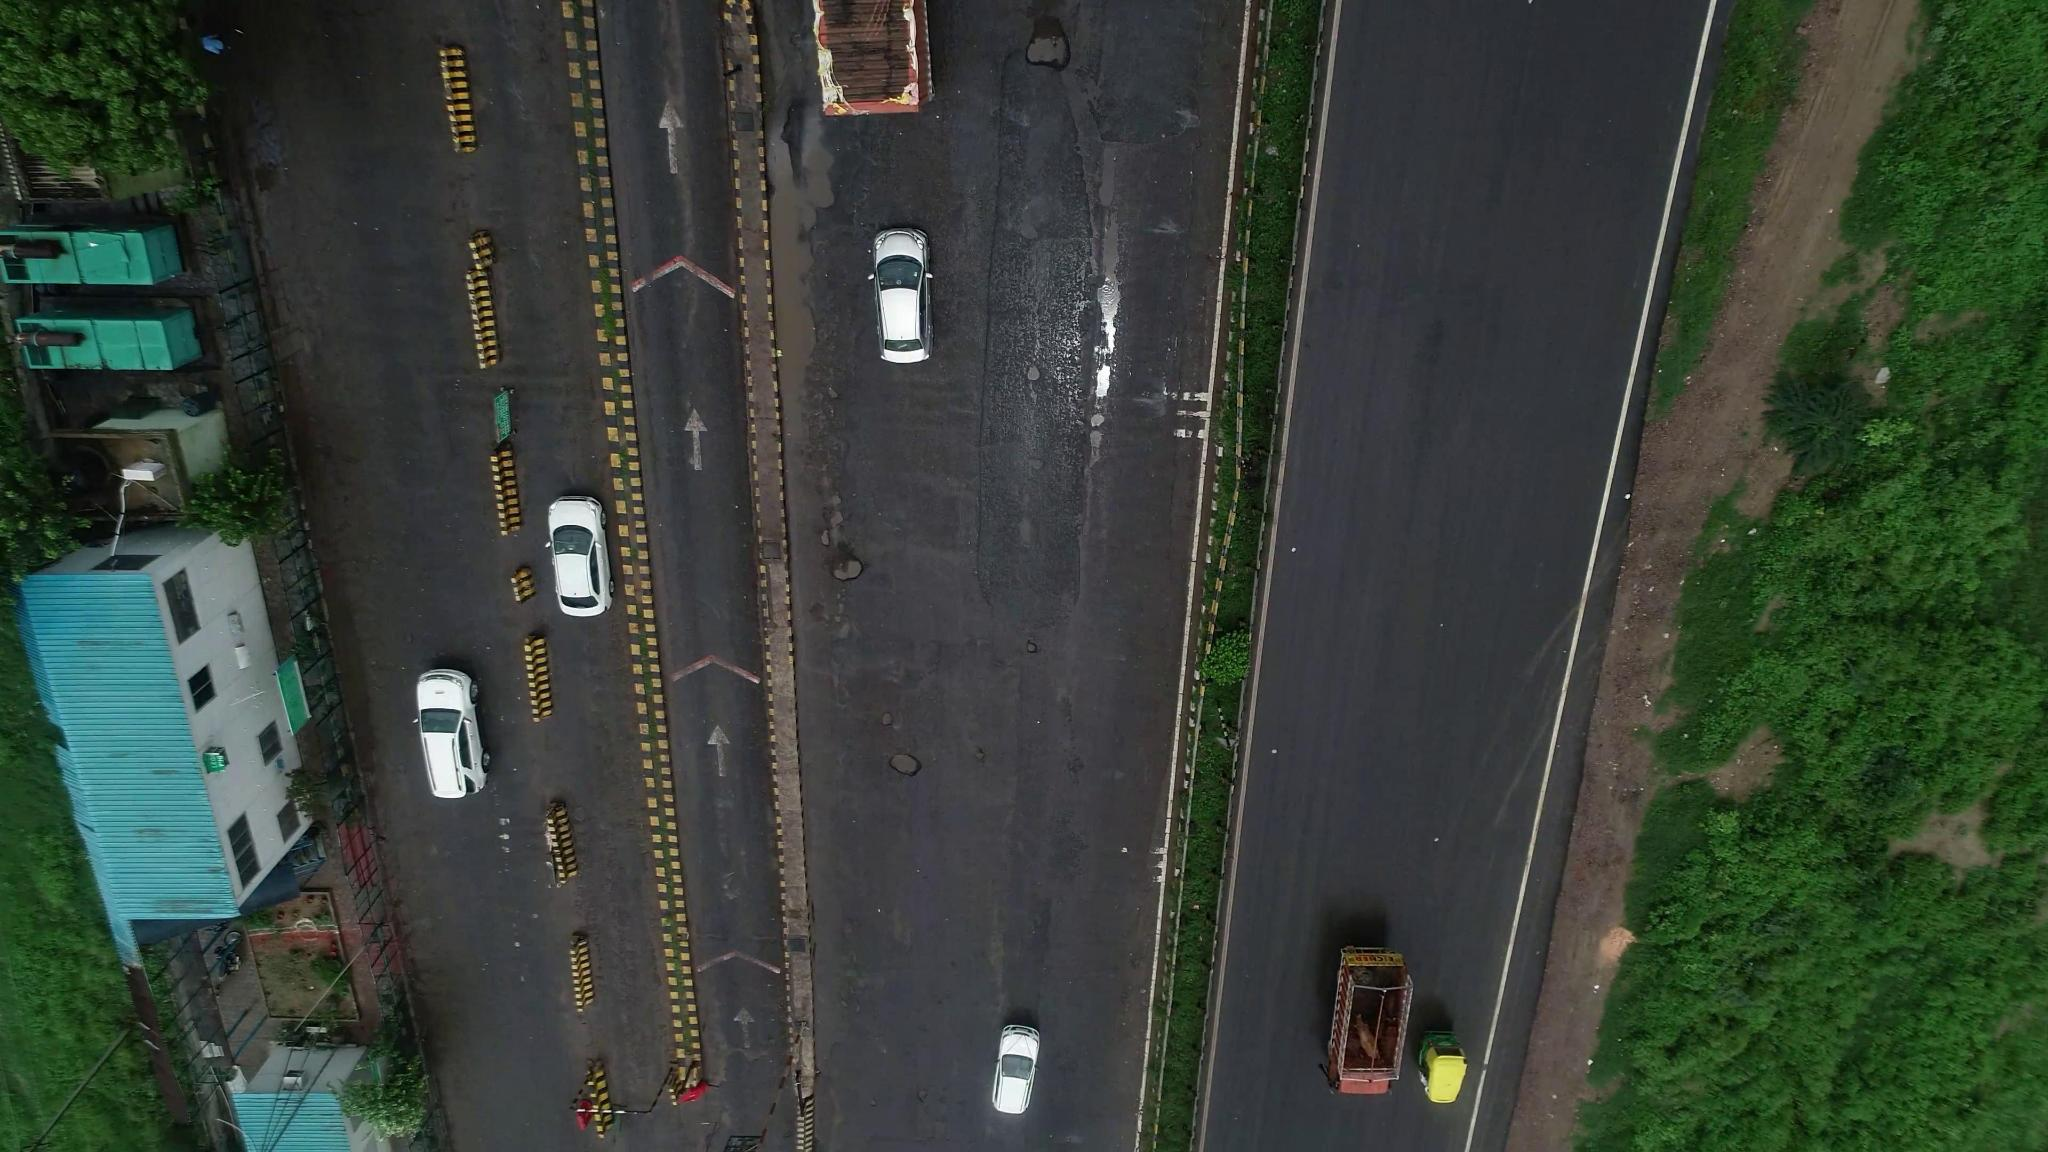Potholes: (1001, 345, 1110, 470), (809, 482, 897, 603), (862, 699, 944, 814), (980, 17, 1122, 82), (979, 602, 1068, 670)
